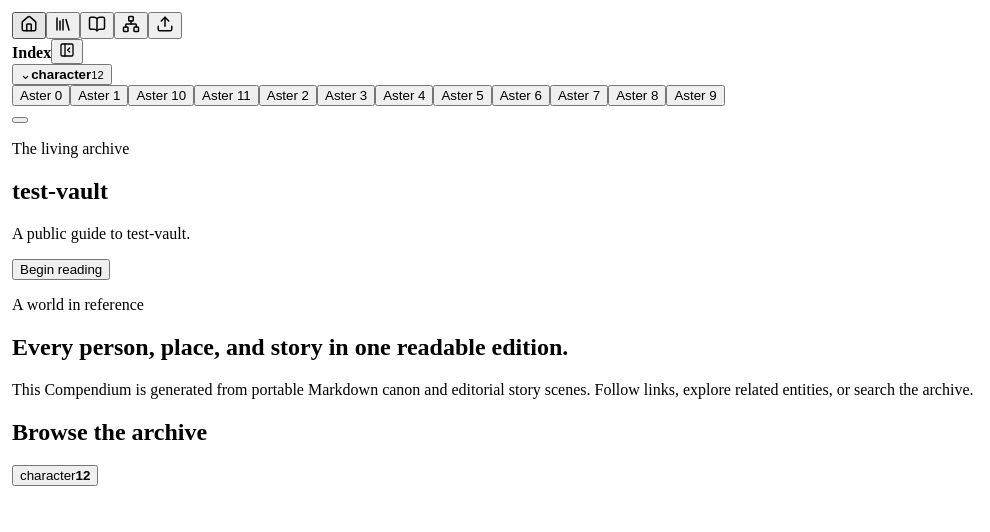
Compendium reading explorer › categories open the correct index group without navigating to the first entity; graph preserves ordinary opening state
Later steps or results of the test are not shown.
What coordinates should you click on to do the following:
click the button "⌄character12"
I would click on:
 (62, 74)
Its box is [12,64,112,85].
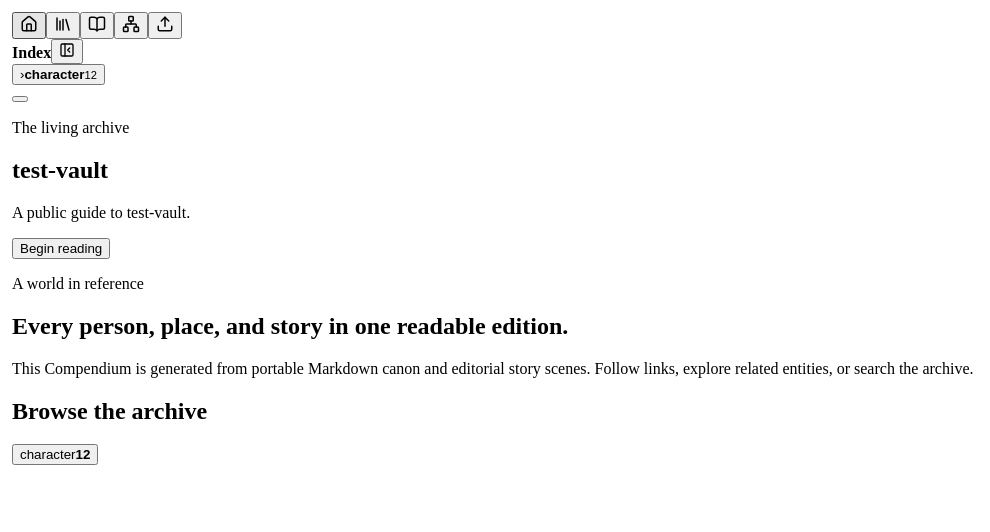
What coordinates should you click on to do the following:
click the button named "Cover"
I would click on:
 (29, 26)
Its box is [12,12,46,39].
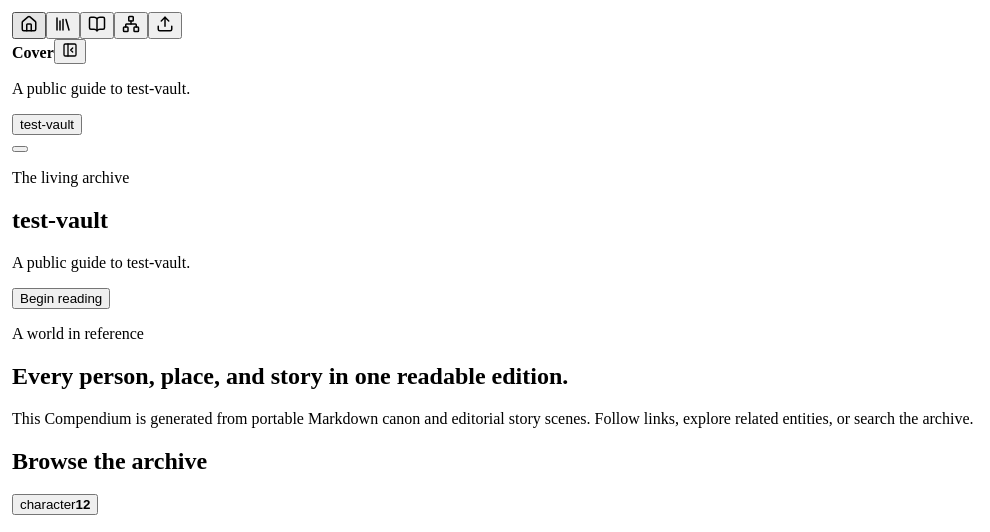
What coordinates should you click on to do the following:
click the button "character12"
I would click on:
 (55, 505)
Its box is [12,494,98,515].
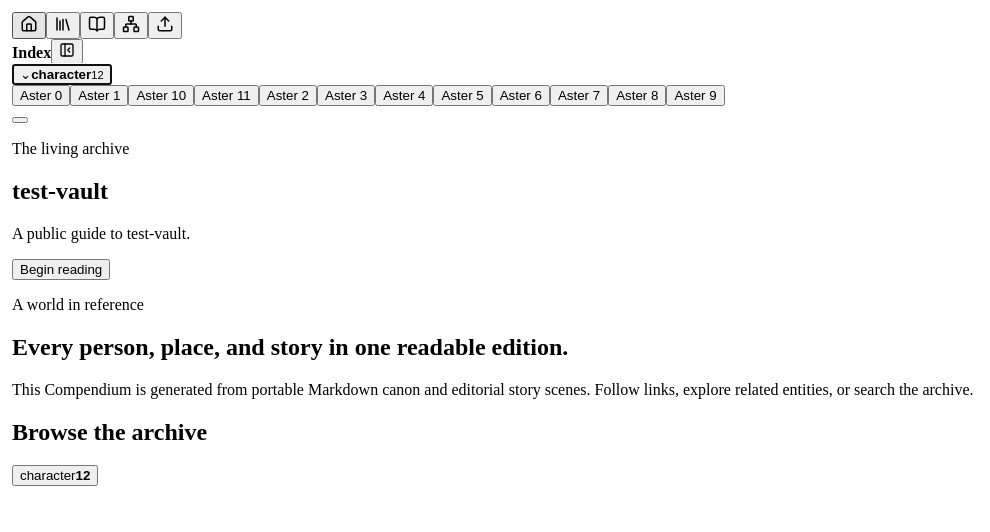
Check: the button "⌄character12" is expanded, box [12,64,112,85]
